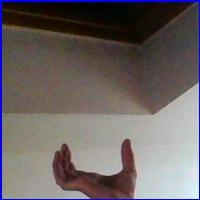space: (44, 134, 152, 198)
